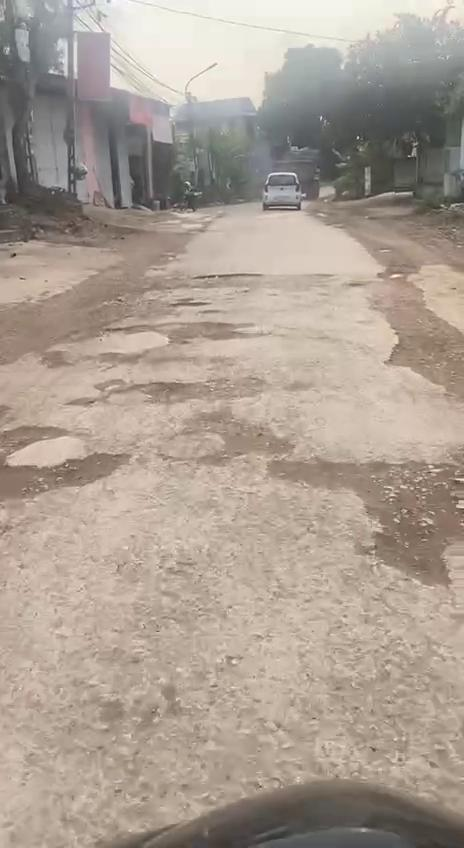pothole: (257, 451, 464, 587), (0, 440, 118, 508), (182, 412, 298, 454), (120, 378, 260, 404), (135, 318, 253, 344)
